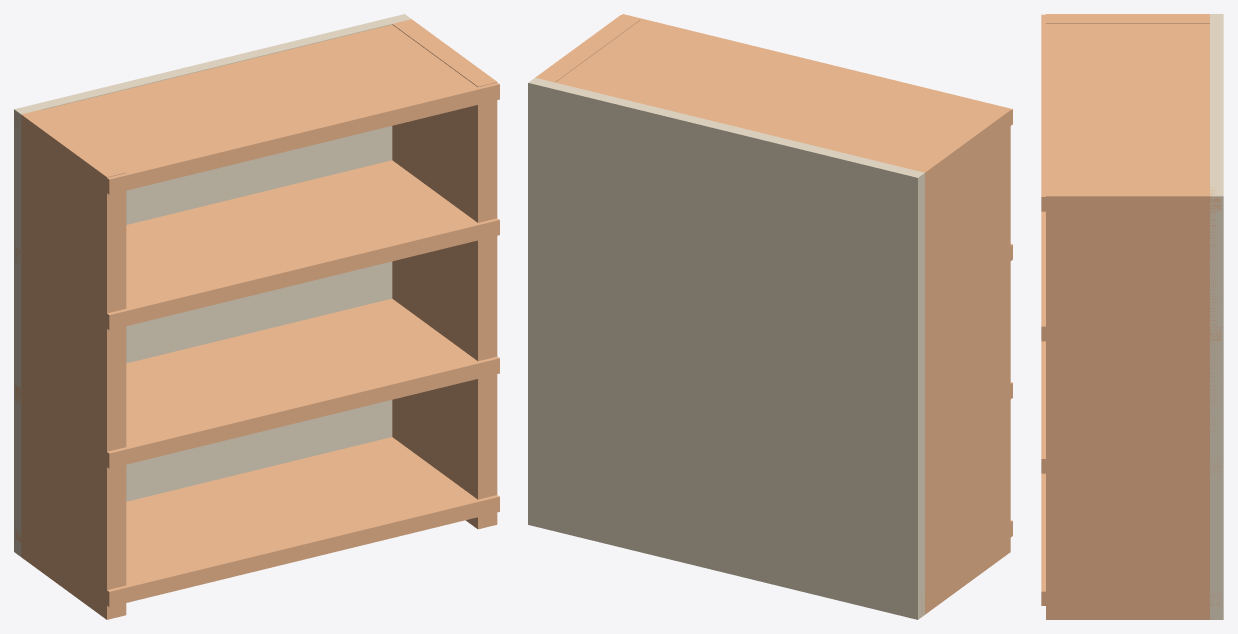
3 views of the same model, side by side, from view 1: azimuth 30°, elevation 25°; view 2: azimuth 150°, elevation 25°; view 3: azimuth 270°, elevation 25° (orthographic). The views are drawn at different scales.
Visible parts, largest first — view 1: Side, Shelf.003, Back, Shelf.001, Shelf.002, Shelf, Side.001; view 2: Back, Side, Shelf.003, Side.001, Shelf.001, Shelf.002, Shelf; view 3: Side.001, Shelf.003, Back, Shelf.002, Shelf, Shelf.001, Side.
Boxes of the visible parts, left/top/right/bottom form: Side: left=21, top=109, right=126, bottom=619; Shelf.003: left=15, top=24, right=499, bottom=194; Back: left=14, top=14, right=411, bottom=556; Shelf.001: left=15, top=298, right=499, bottom=468; Shelf.002: left=15, top=160, right=499, bottom=330; Shelf: left=15, top=437, right=499, bottom=606; Side.001: left=392, top=19, right=497, bottom=529; Back: left=528, top=77, right=924, bottom=619; Side: left=906, top=105, right=1010, bottom=616; Shelf.003: left=555, top=14, right=1012, bottom=188; Side.001: left=535, top=15, right=639, bottom=82; Shelf.001: left=925, top=382, right=1012, bottom=461; Shelf.002: left=925, top=244, right=1012, bottom=323; Shelf: left=926, top=520, right=1012, bottom=598; Side.001: left=1046, top=187, right=1216, bottom=619; Shelf.003: left=1041, top=14, right=1221, bottom=211; Back: left=1210, top=14, right=1223, bottom=619; Shelf.002: left=1041, top=211, right=1221, bottom=341; Shelf: left=1041, top=473, right=1220, bottom=605; Shelf.001: left=1041, top=341, right=1220, bottom=473; Side: left=1046, top=14, right=1209, bottom=23.
Bounding box in the file's own units: 96 × 104 × 40.5.
